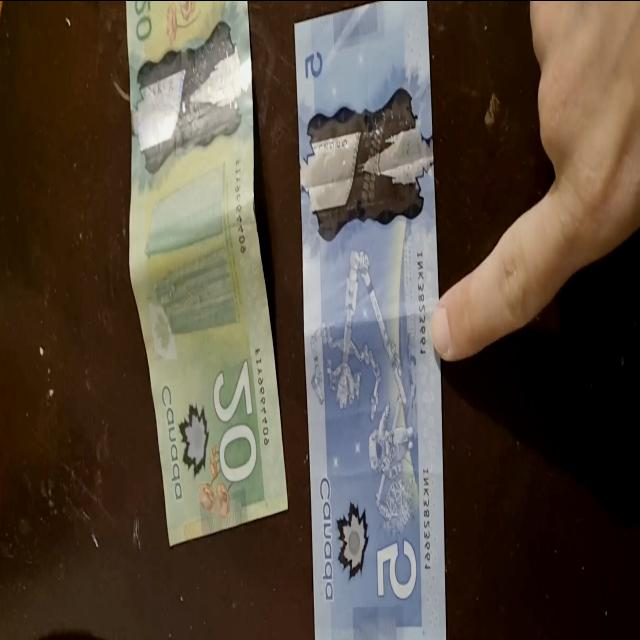20 cad: (126, 0, 290, 553)
5 cad: (293, 4, 447, 640)
